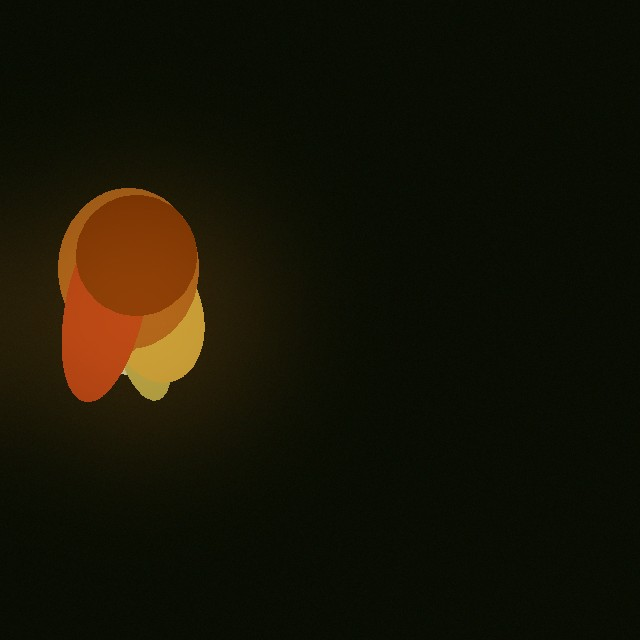fire: (79, 231, 201, 399)
